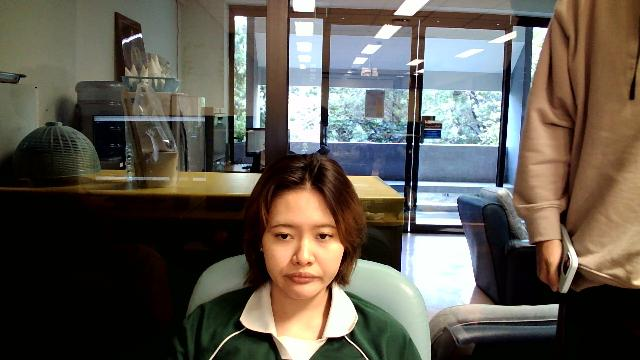fokus: (262, 190, 343, 300)
